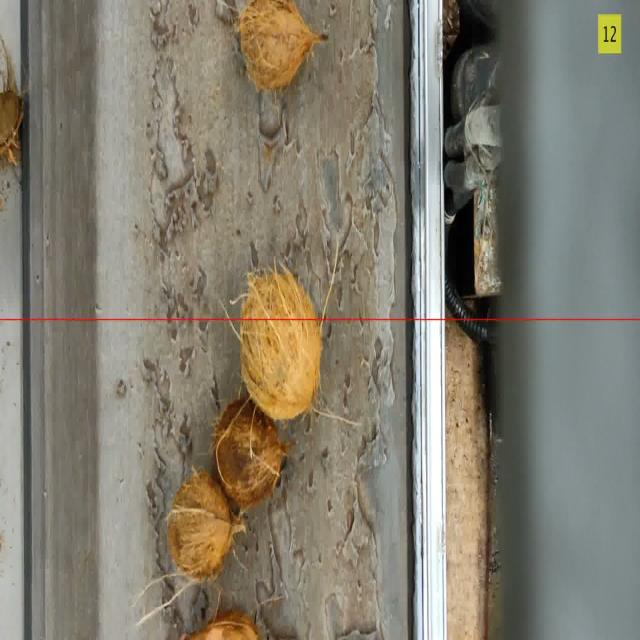Coconut-Conveyor-Belt: (240, 269, 321, 420), (168, 471, 244, 580), (238, 0, 325, 89), (214, 399, 285, 508), (0, 39, 23, 165), (181, 611, 260, 639)
